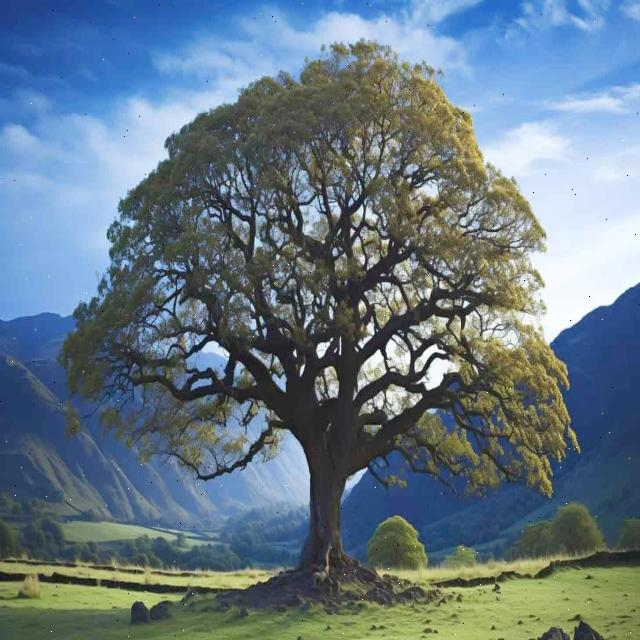Tree: (52, 38, 580, 588)
